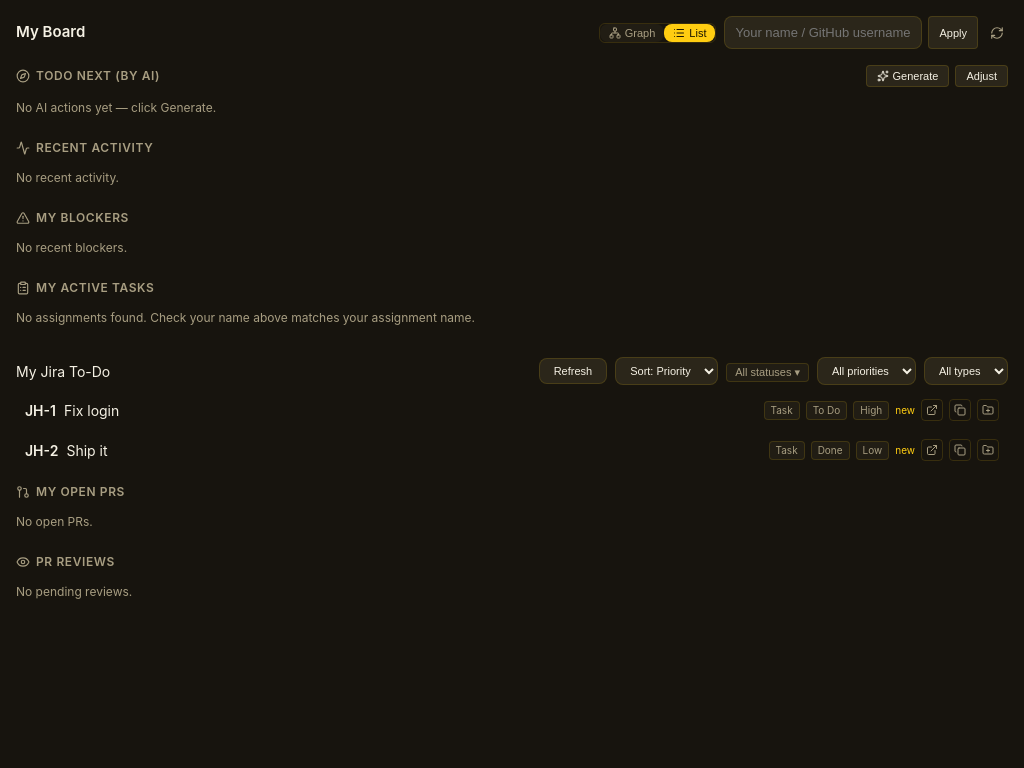
Test: MyBoardPage — My Jira To-Do › filters the list by status
Expected: the text "Fix login" is shown, [64, 402, 119, 418]
Expected: the text "Ship it" is shown, [66, 442, 108, 458]
Step 1. Click the button with aria-label "filter by status" → coordinates (768, 372), box [726, 363, 809, 382]
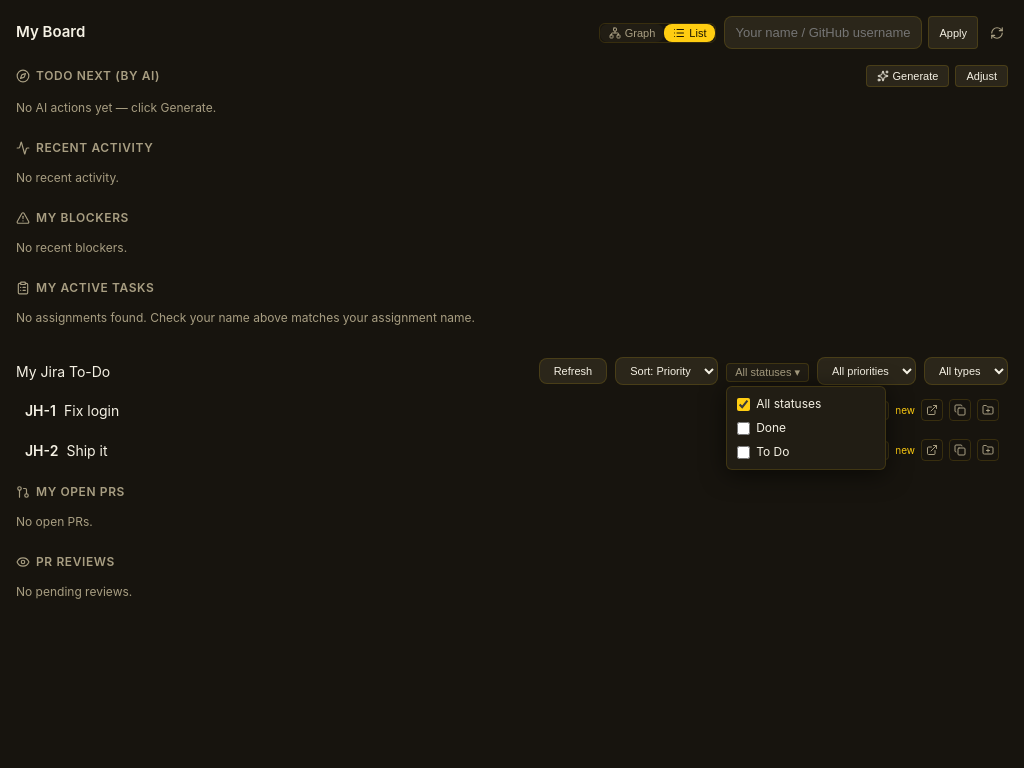
Step 2. Click the checkbox labelled "Done" → coordinates (744, 428), box [737, 422, 750, 434]
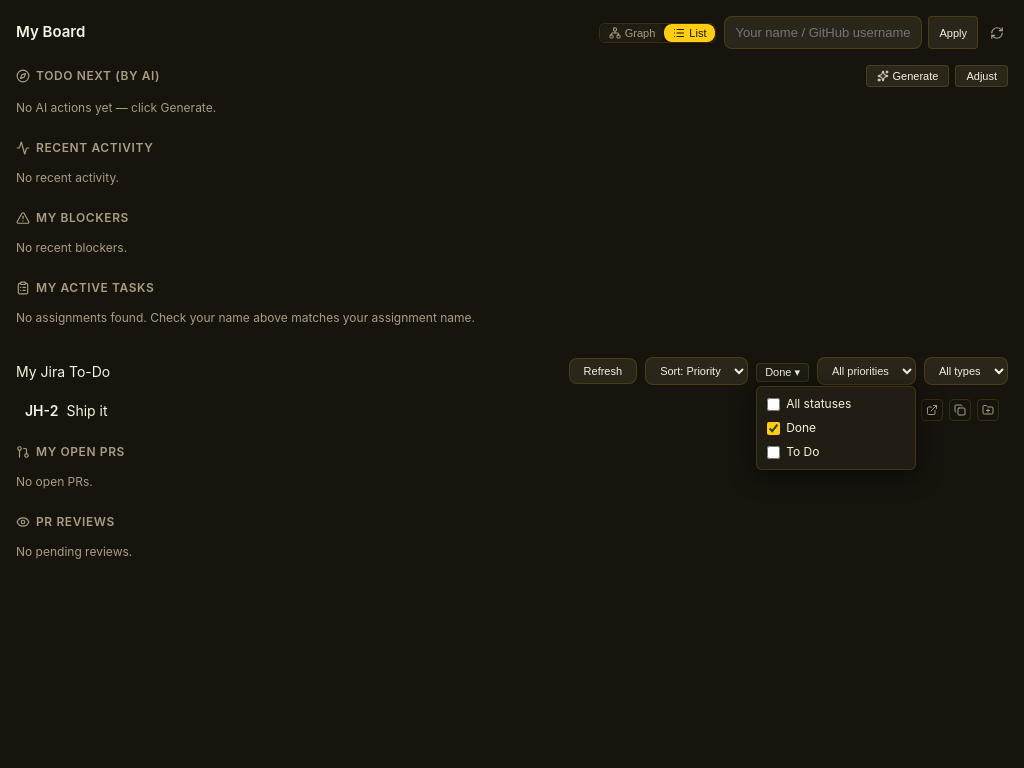
Expected: the text "Ship it" is shown, [66, 402, 108, 418]
Expected: the text "Fix login" is gone
// Multi-select: adding a second status brings the other row back.
Step 3. Click the checkbox labelled "To Do" → coordinates (774, 452), box [767, 446, 780, 458]
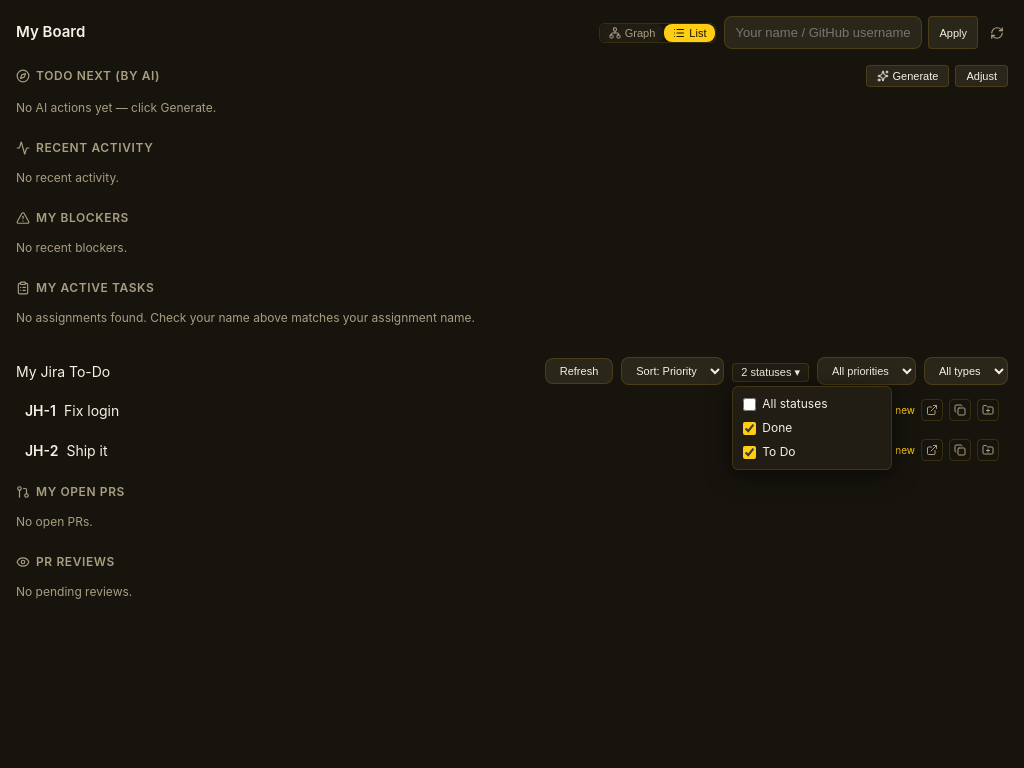
Expected: the text "Ship it" is shown, [66, 442, 108, 458]
Expected: the text "Fix login" is shown, [64, 402, 119, 418]
